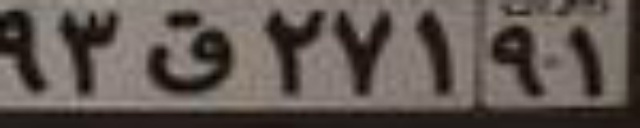1: (416, 9, 453, 93), (559, 29, 604, 96)
2: (260, 9, 328, 93)
3: (57, 8, 125, 93)
7: (336, 4, 392, 95)
9: (1, 9, 49, 92), (490, 27, 545, 96)
ghaf: (143, 10, 236, 93)
